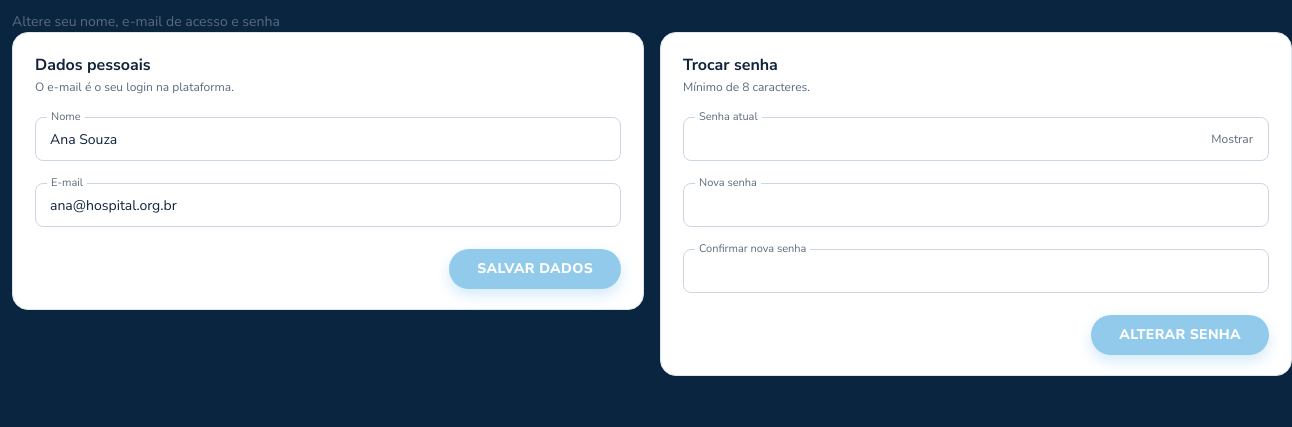
Minha conta: trocar senha › recusa: atual=segredo123 nova=curta confirma=curta
The width and height of the screenshot is (1292, 427).
Type "segredo123" into the password field next to "Senha atual" at (976, 139), box [683, 117, 1269, 161]
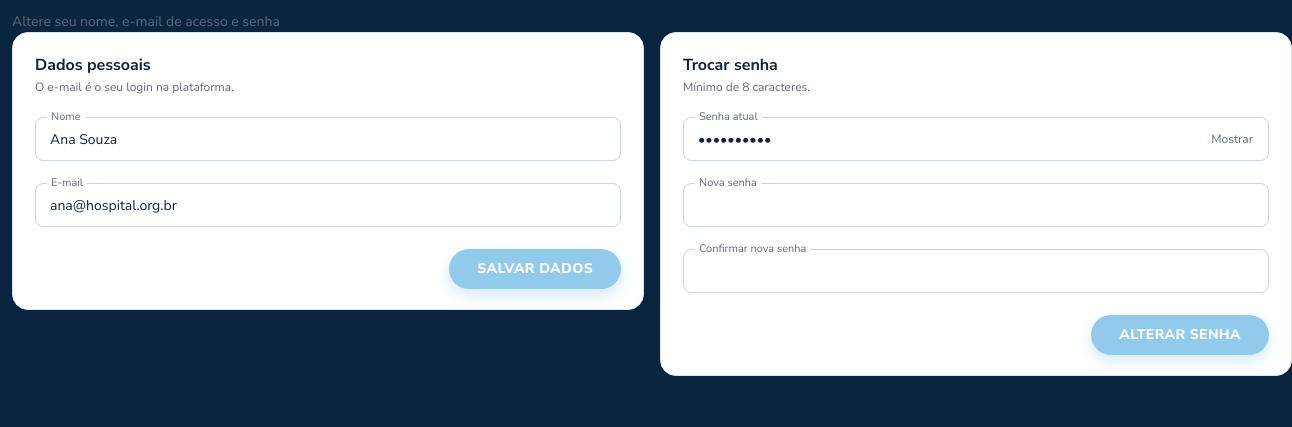
Type "curta" into the 2nd password field at (976, 205), box [683, 183, 1269, 227]
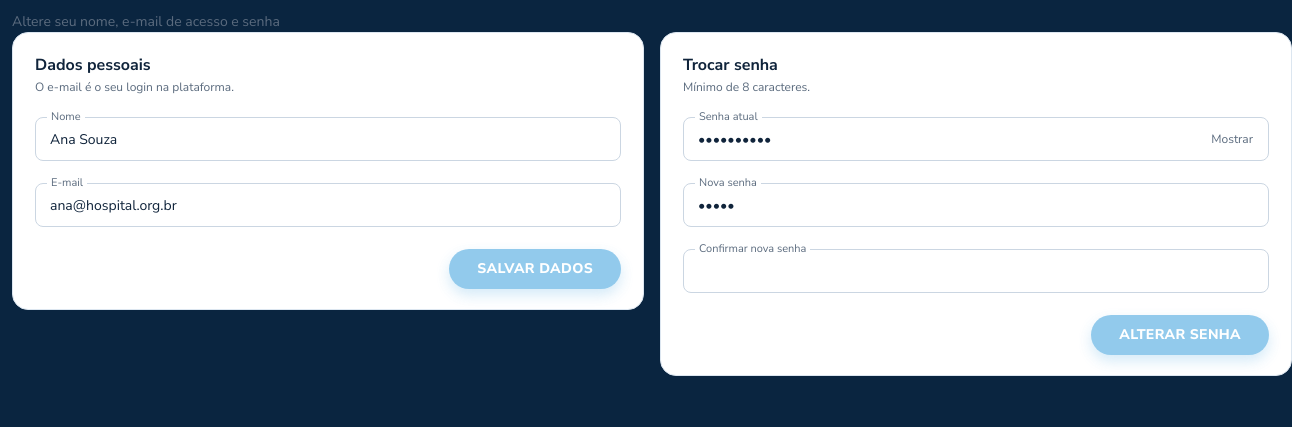
Type "curta" into the password field next to "Confirmar nova senha" at (976, 271), box [683, 249, 1269, 293]
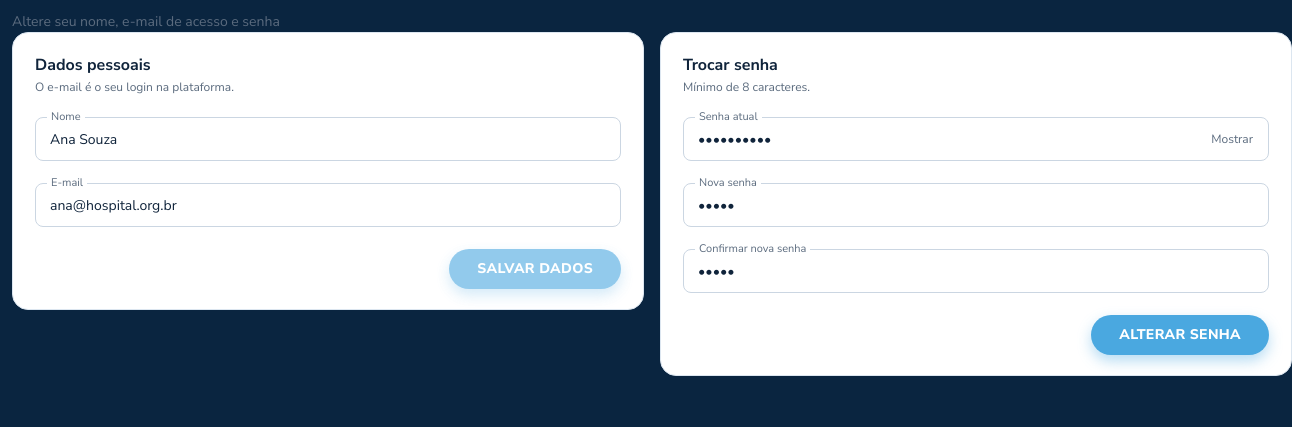
Click the button "ALTERAR SENHA" at (1180, 335), box [1091, 315, 1269, 355]
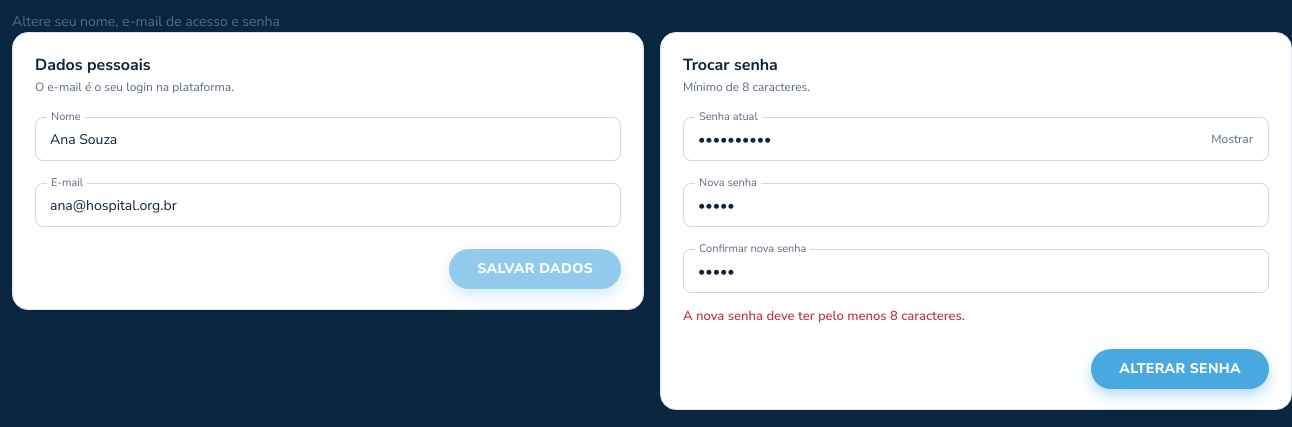
Expected: the text "A nova senha deve ter pelo menos 8 caracteres." is shown, [683, 307, 965, 325]
